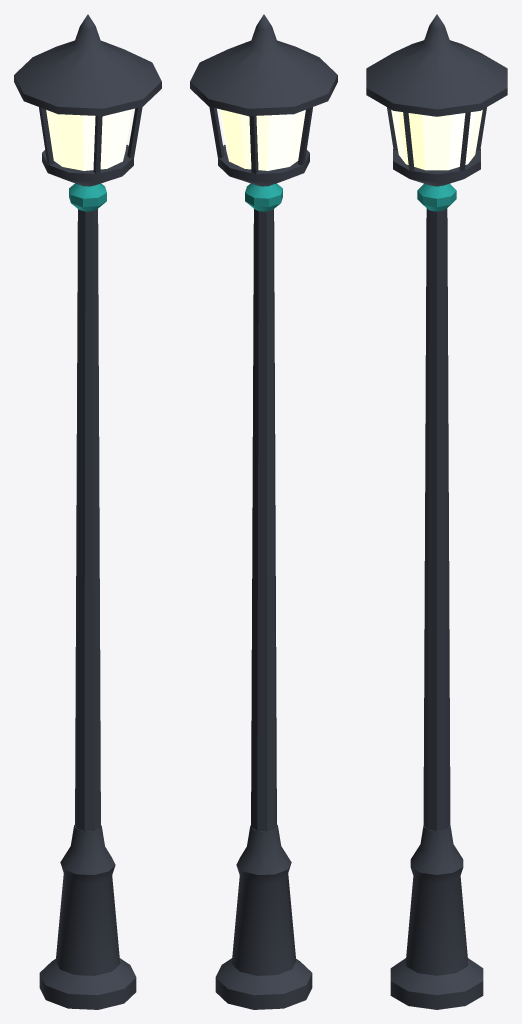
File: street_lamp_b.glb
3 renders of one model, left to right at view 1: azimuth 30°, elevation 25°; view 2: azimuth 150°, elevation 25°; view 3: azimuth 270°, elevation 25°, orthographic.
Parts seen in each view (by area): view 1: street_lamp_b; view 2: street_lamp_b; view 3: street_lamp_b.
Part boxes in pixels (x1,y1,x2,y2): street_lamp_b: (14, 14, 161, 1009); street_lamp_b: (190, 14, 337, 1009); street_lamp_b: (366, 14, 507, 1009).
Size of the model in its own units: 0.64 by 4.64 by 0.6087.
